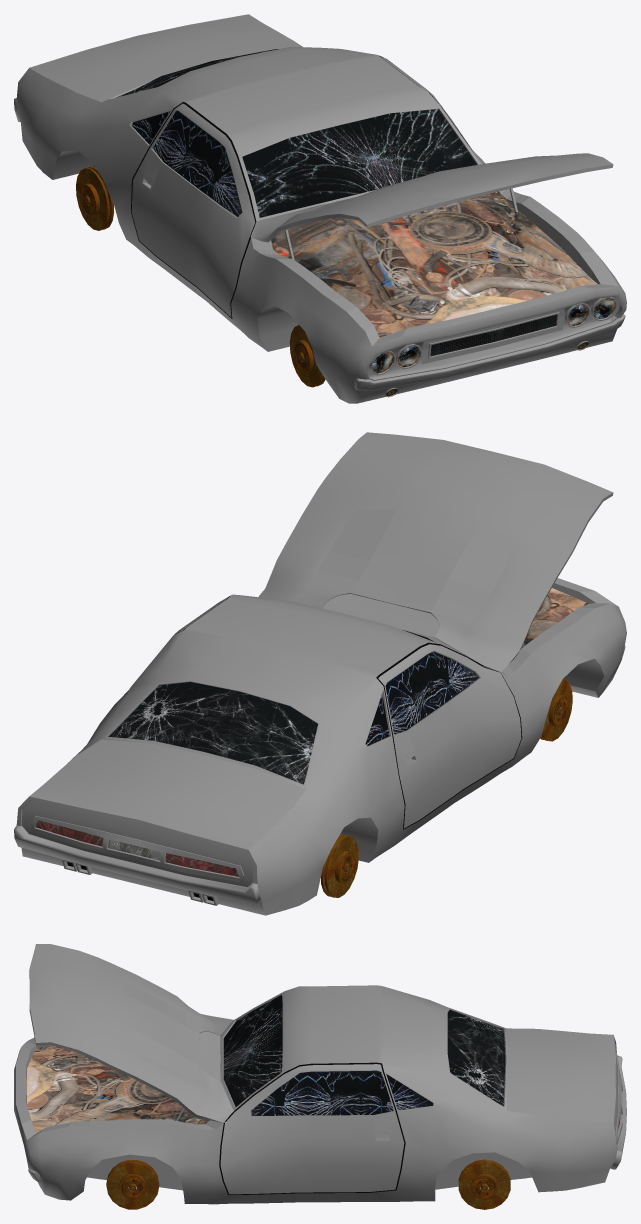
File: Static_Car_Hood_Open.FBX
3 renders of one model, top to bottom at view 1: azimuth 30°, elevation 25°; view 2: azimuth 150°, elevation 25°; view 3: azimuth 270°, elevation 25°, orthographic. The views are drawn at different scales.
Parts seen in each view (by area): view 1: Static_Car_hood_open; view 2: Static_Car_hood_open; view 3: Static_Car_hood_open.
Part boxes in pixels (x1,y1,x2,y2): Static_Car_hood_open: (14,14,626,403); Static_Car_hood_open: (14,432,626,915); Static_Car_hood_open: (14,944,626,1209).
Size of the model in its own units: 135 by 94.27 by 300.
